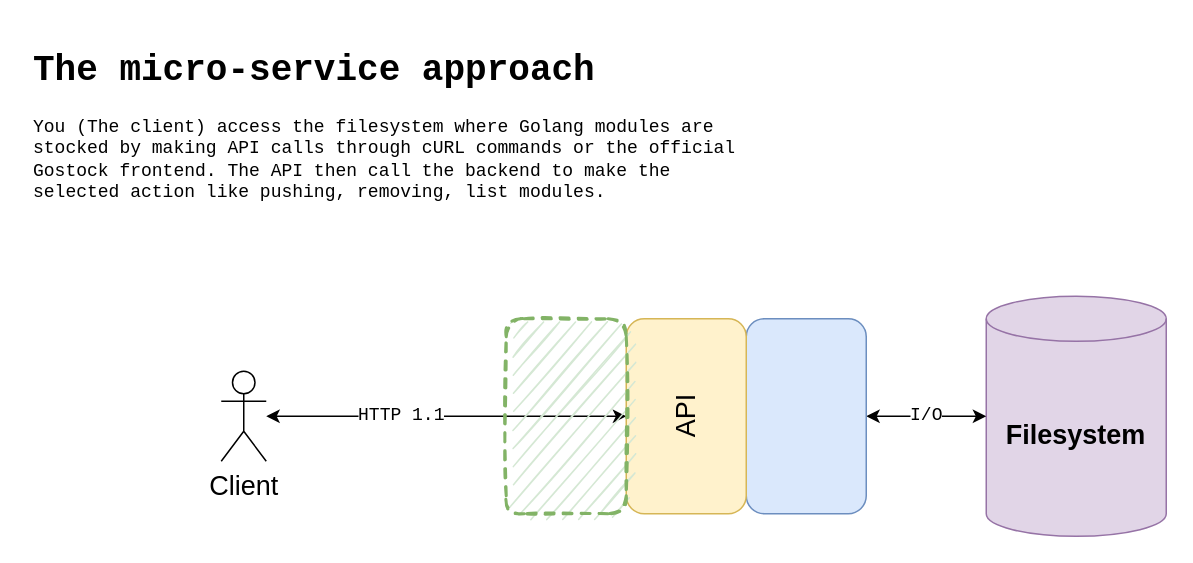
Some shapes in this 1193 by 563 pixel diagram are drawn without their labels. Here are the shapes that lost their labels. From the top down, the centre of each, then its label:
point 565,415: Frontend
point 805,415: Backend
